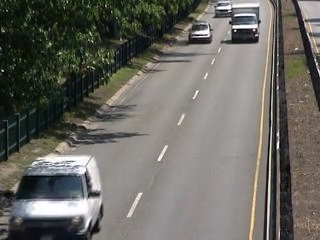car: (187, 21, 213, 45), (213, 1, 234, 19)
truck: (7, 152, 105, 240), (228, 4, 262, 42)
